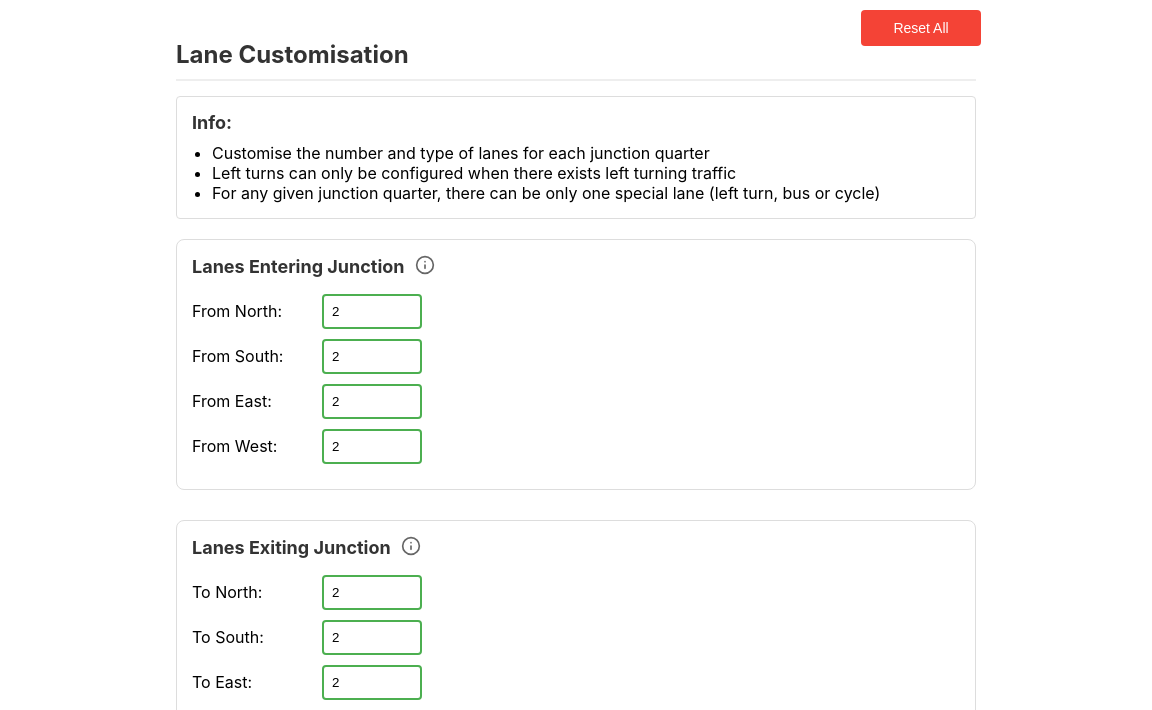
LaneCustomisation Component › Special Lane Configuration › Special lane requires minimum 2 entry lanes
# Set lane configuration with only 1 lane
Replace the text in the number field labelled "From North:" with "1": (372, 311) [322, 294, 422, 329]
(page scrolled)
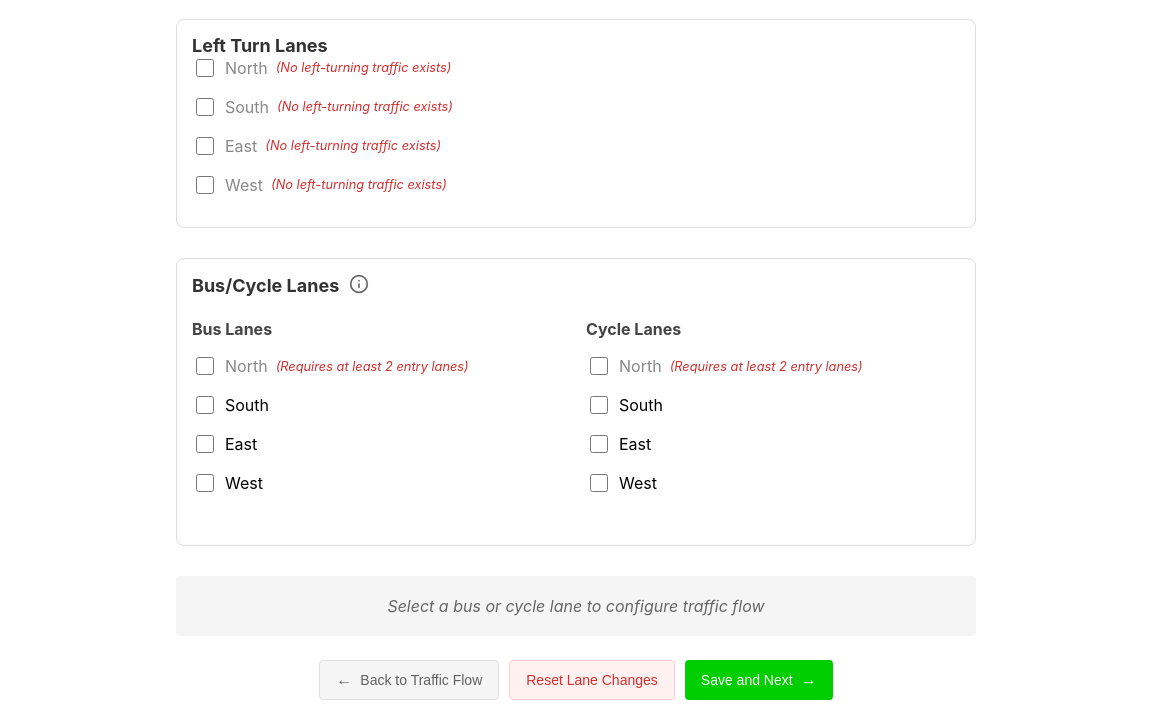
# Click on the checkbox
Click the checkbox labelled "North (Requires at least 2 entry lanes)" below "Bus Lanes": (205, 366) [196, 357, 214, 375]
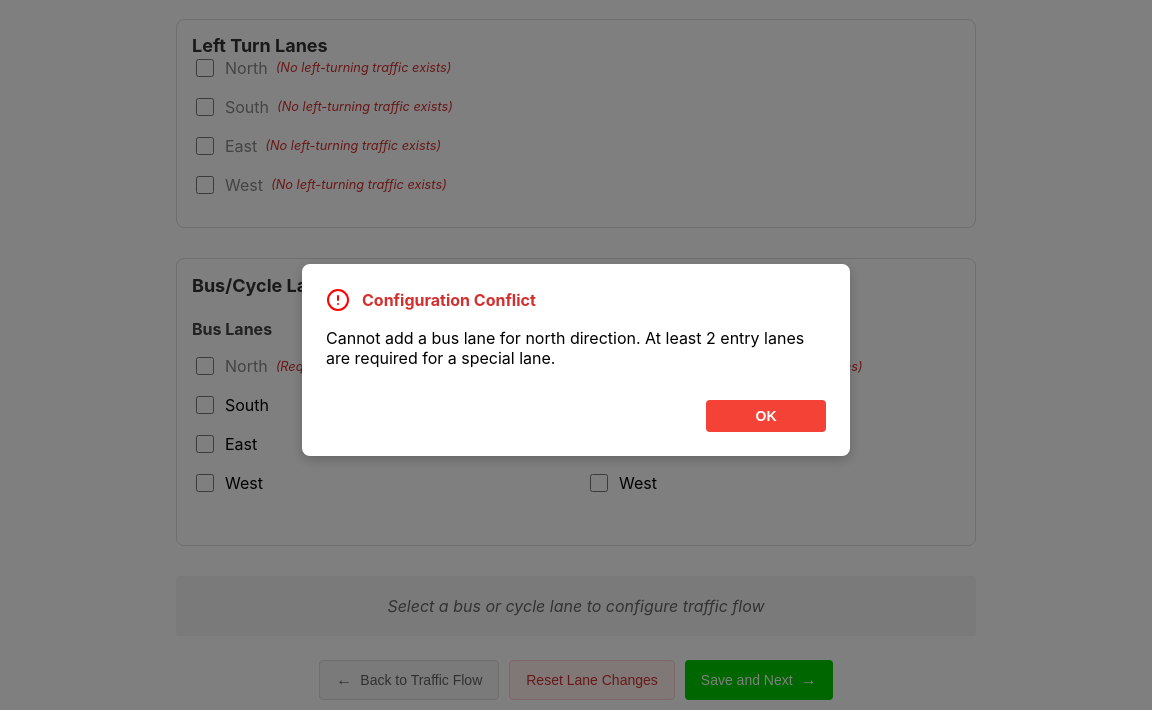
Check: the text "Cannot add a bus lane for north direction. At least 2 entry lanes are required" is shown, box [326, 328, 804, 368]
